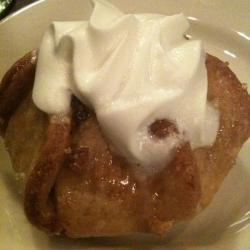apple_pie: (4, 63, 250, 239)
icecream: (42, 14, 217, 149)
